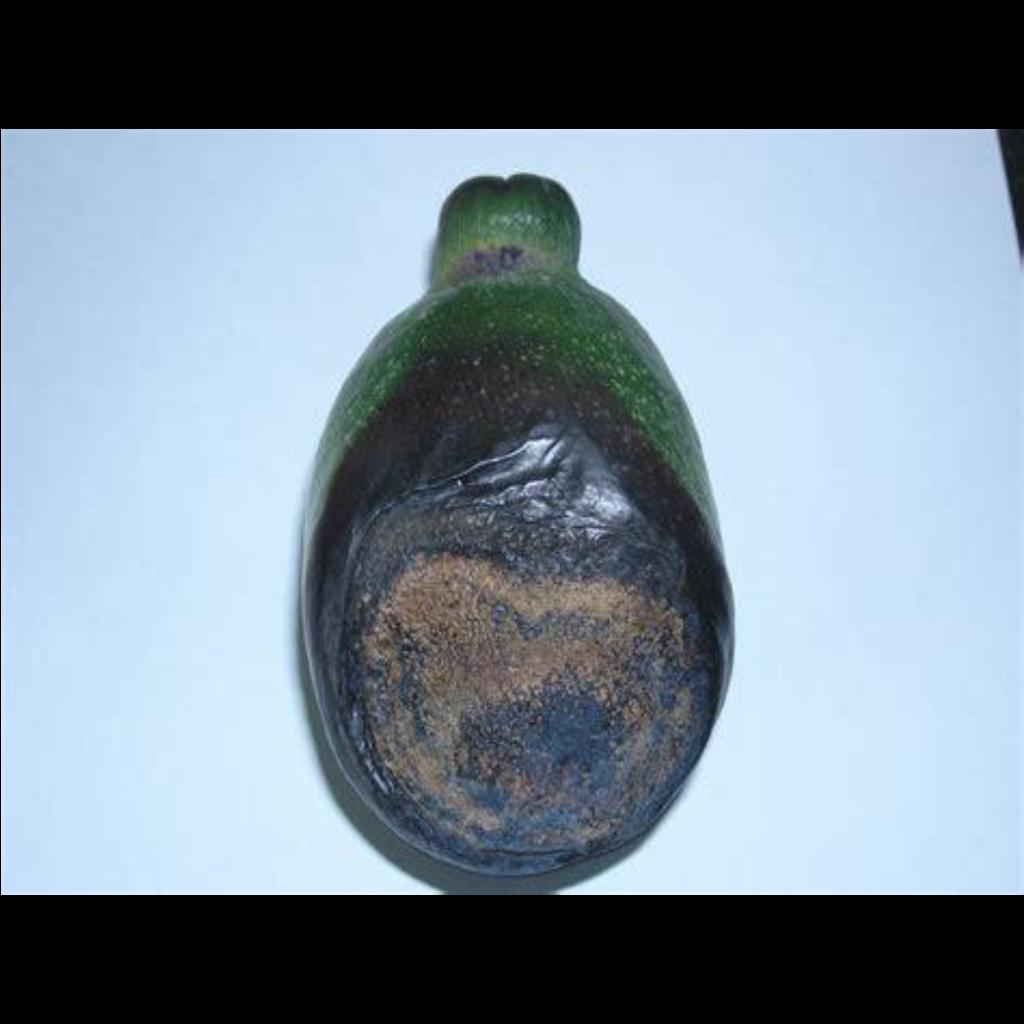antracnosis_fruto: (323, 324, 736, 871)
